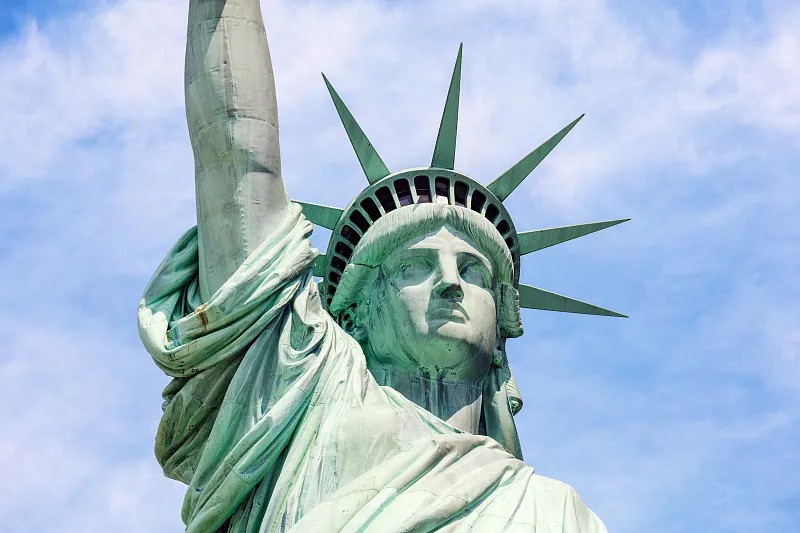SL: (137, 1, 608, 533)
